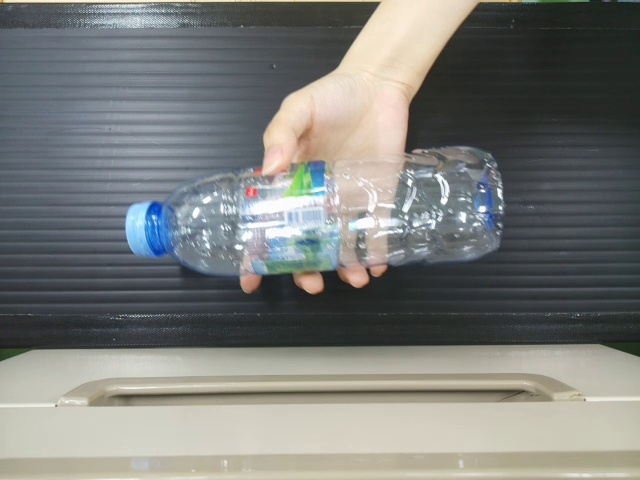bottle: (121, 150, 511, 275)
